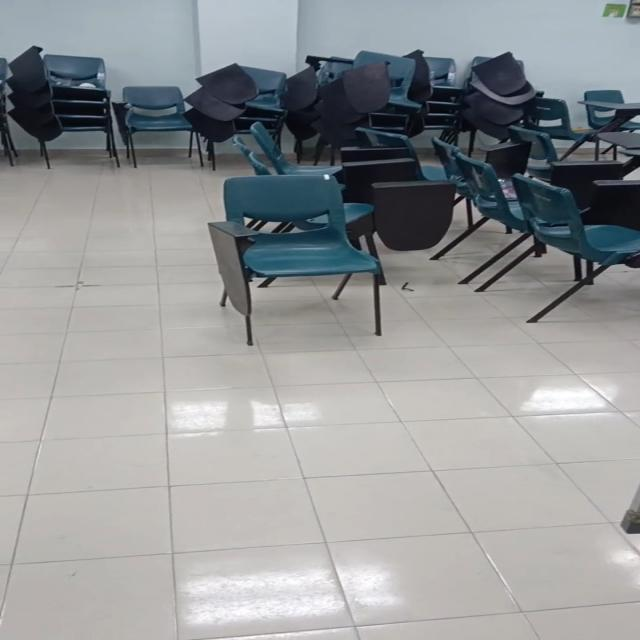sandalye: (208, 176, 385, 344), (116, 86, 194, 167)
